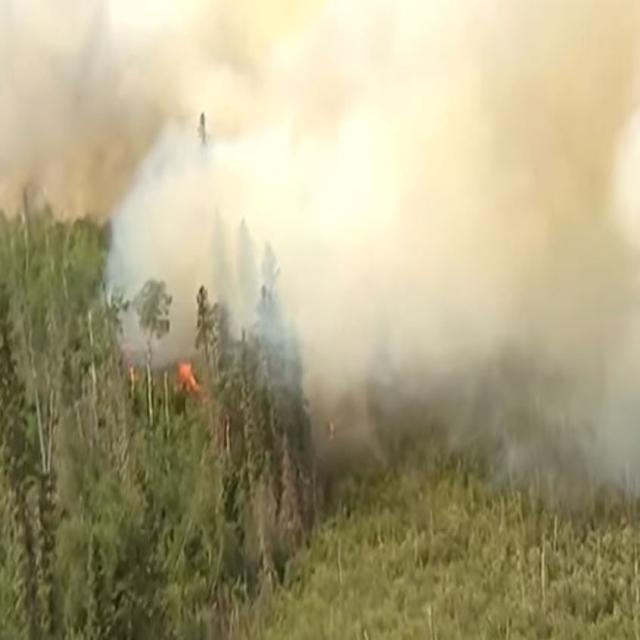Smoke: (81, 0, 640, 382)
